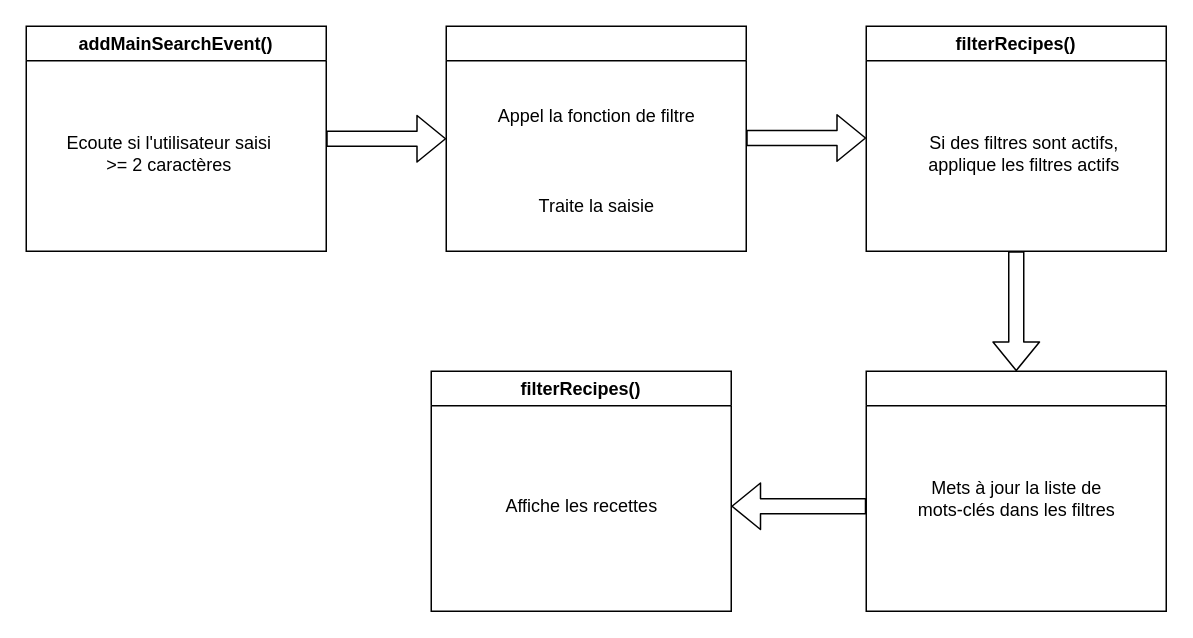
Image size: 1193x638. Some labels were removed from this diagram. The shapes that lost their labels are listed below. From the top down, each one's box as (x1, y1, x2, y2) in pixels, then its label:
(445, 25, 746, 251): mainSearch()
(865, 370, 1166, 611): filterKeywords()
